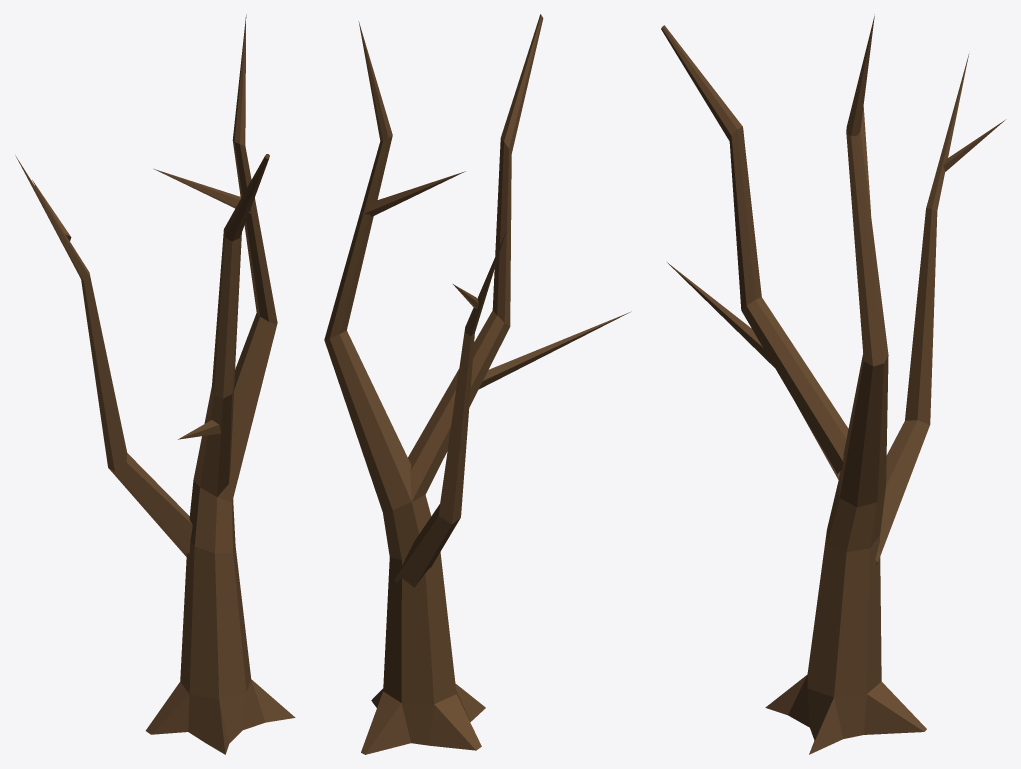
Rendered from tree-dead-1.glb.
The picture shows the model from 3 angles, left to right: view 1: azimuth 30°, elevation 25°; view 2: azimuth 150°, elevation 25°; view 3: azimuth 270°, elevation 25°; orthographic projection. The views are drawn at different scales.
Parts seen in each view (by area): view 1: tree-old; view 2: tree-old; view 3: tree-old.
Boxes of the visible parts, left/top/right/bottom form: tree-old: left=15, top=14, right=295, bottom=754; tree-old: left=324, top=14, right=631, bottom=754; tree-old: left=661, top=14, right=1006, bottom=754.
Size of the model in its own units: 1.89 by 5.67 by 2.43.
